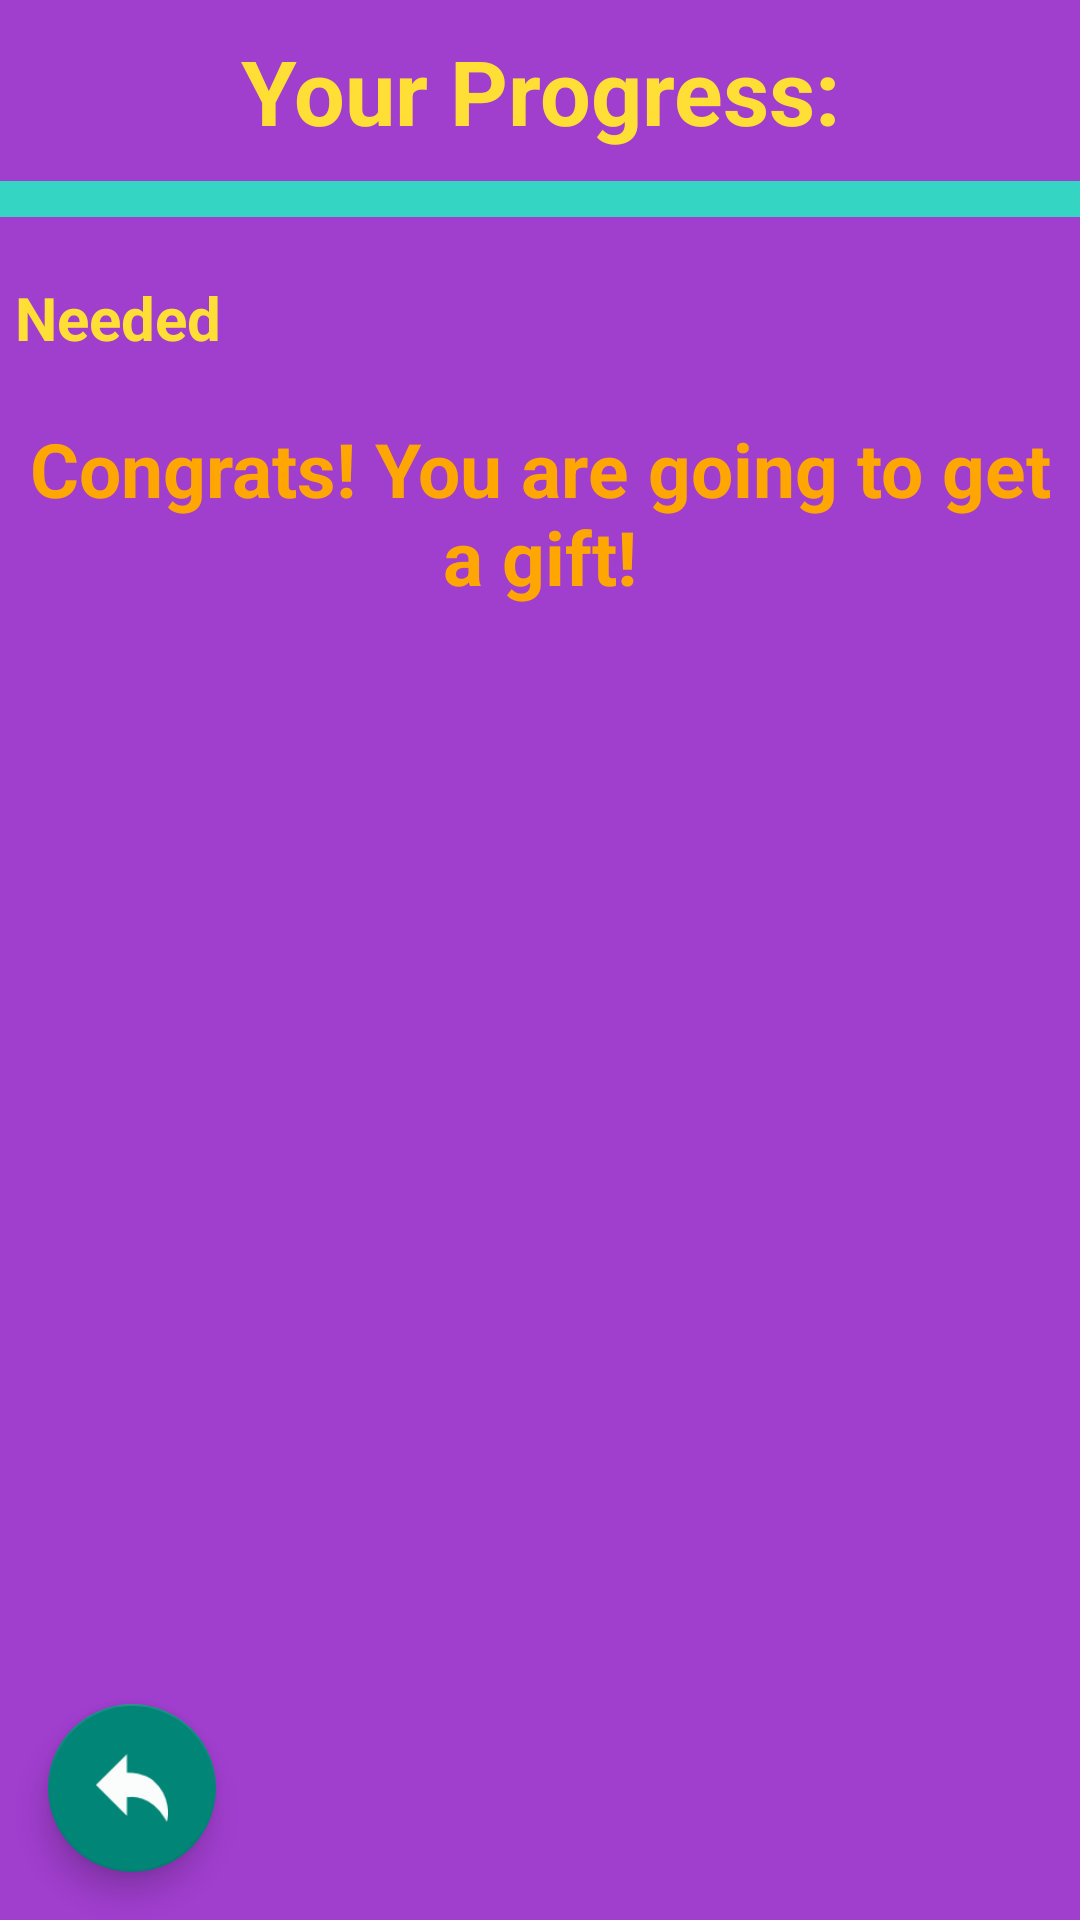

Screen size 1080px×1920px. Icon name, then its box in pixels as bbox=[x1, y1, x2, y2]:
backicon: bbox=[48, 1704, 216, 1872]
